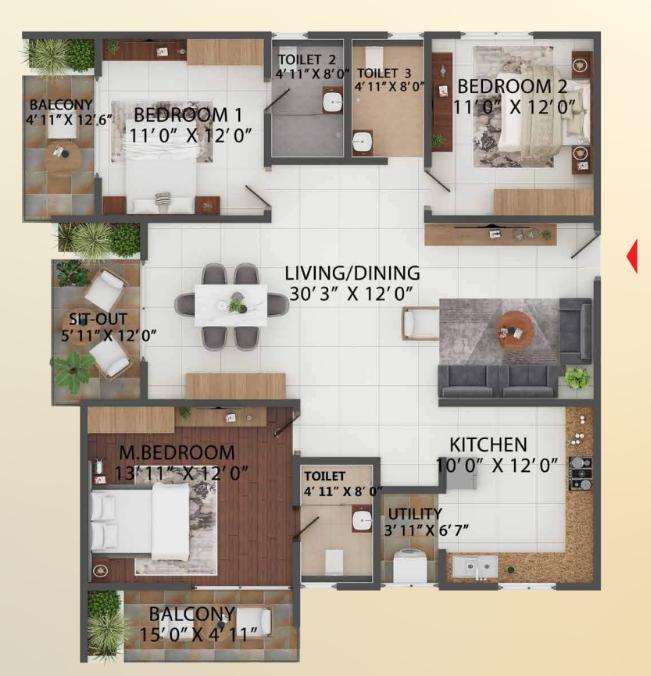Balcony: (50, 223, 144, 399), (23, 43, 112, 219), (82, 593, 299, 658)
Bed: (85, 477, 212, 559), (123, 106, 211, 222), (483, 77, 595, 150)
Bedroom: (82, 402, 301, 593), (89, 33, 267, 217), (433, 33, 597, 220)
Dining Room: (139, 220, 297, 402)
Dining table: (176, 259, 291, 351)
Kitchen: (438, 409, 591, 584)
Living Room: (277, 159, 596, 482)
Sofa: (552, 299, 593, 371), (437, 363, 501, 396), (500, 367, 560, 398)
Wardrobe: (187, 373, 285, 401), (187, 37, 265, 66), (494, 191, 593, 213), (86, 410, 174, 431)
commode: (363, 47, 387, 74), (279, 44, 298, 73), (325, 551, 346, 575)
door: (245, 185, 277, 219), (295, 506, 323, 540), (427, 167, 452, 204), (262, 83, 290, 113)
fridge: (440, 457, 478, 487)
kitchen-slab: (563, 406, 597, 584), (445, 552, 594, 586)
sink: (451, 555, 499, 582), (352, 511, 373, 531), (324, 94, 343, 112), (355, 132, 371, 151)
stove: (567, 456, 593, 494)
toilet: (262, 40, 349, 163), (300, 460, 381, 586), (342, 40, 425, 155)
tv: (423, 222, 551, 241), (107, 35, 183, 57), (182, 402, 261, 423)
utility: (379, 482, 443, 594)
washing-machine: (391, 546, 431, 583)
